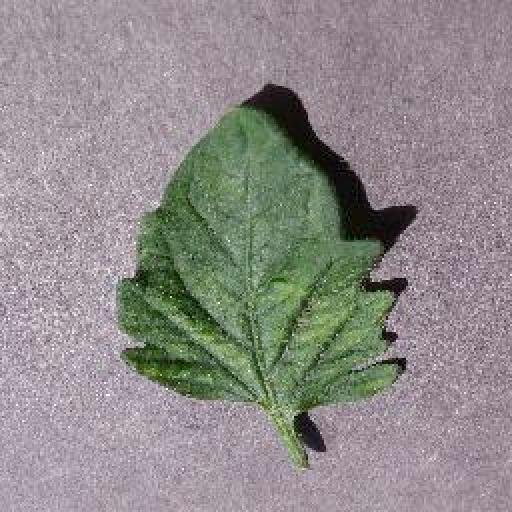Mosaic Virus: (114, 105, 406, 411)
